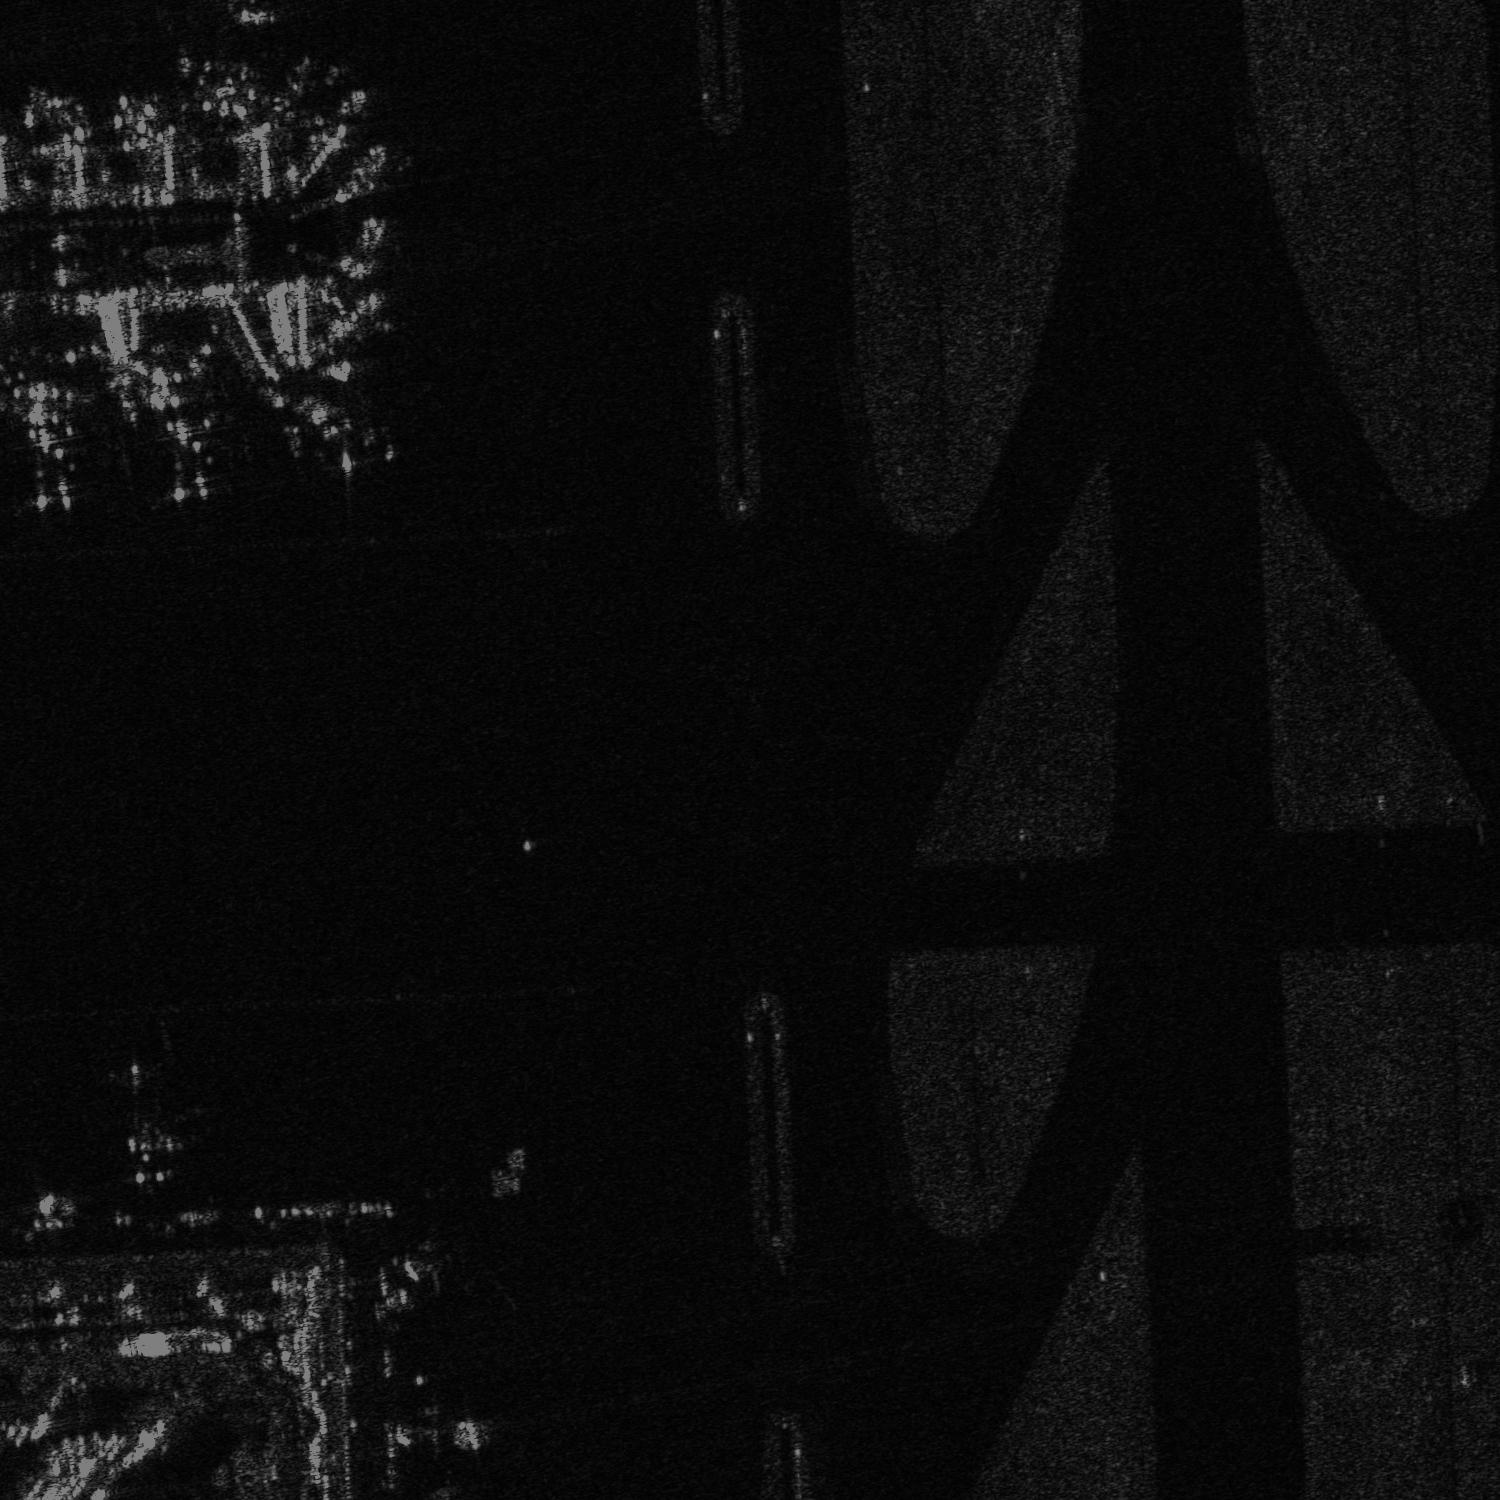A220: (174, 1, 288, 102), (387, 1393, 501, 1471), (390, 1231, 473, 1299)
Boeing737: (282, 391, 409, 479)
Boeing787: (1, 396, 88, 516), (113, 1118, 194, 1199)
other: (133, 387, 221, 519)
